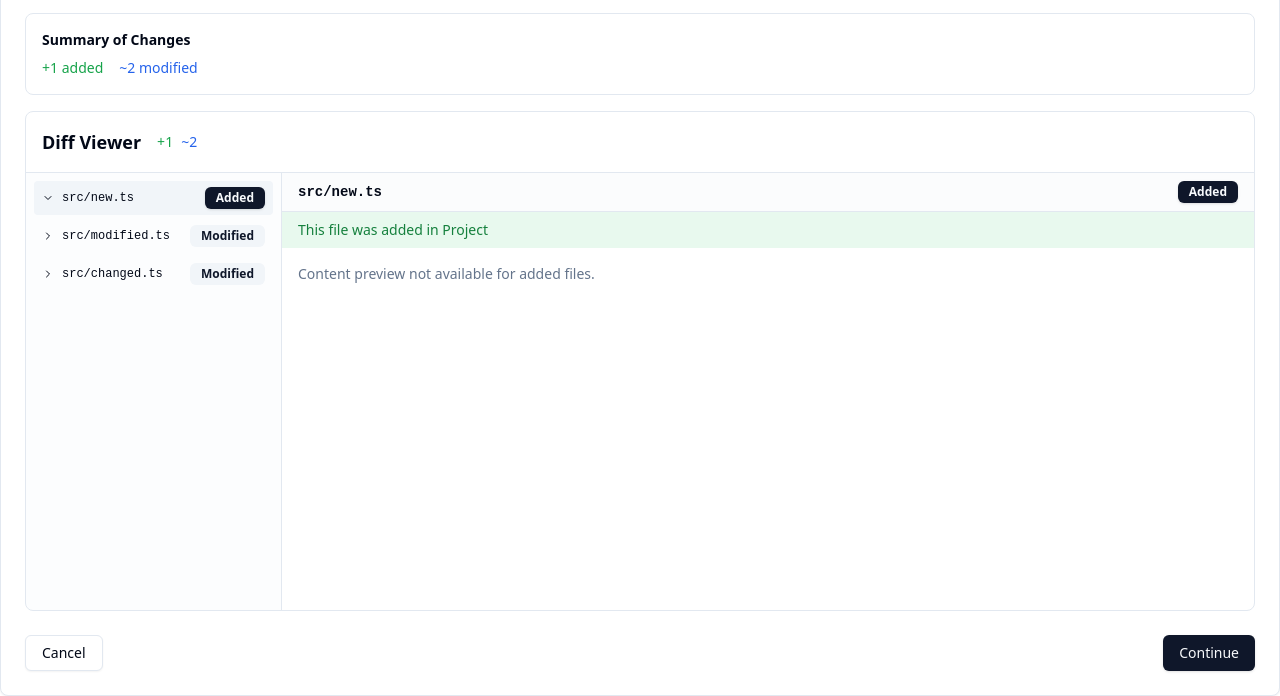
Test: MergeWorkflow › Preview Step › progresses to Resolve step when Continue clicked with conflicts
(page scrolled)
Click the button "Continue": (1209, 653) left=1163, top=635, right=1255, bottom=671
(page scrolled)
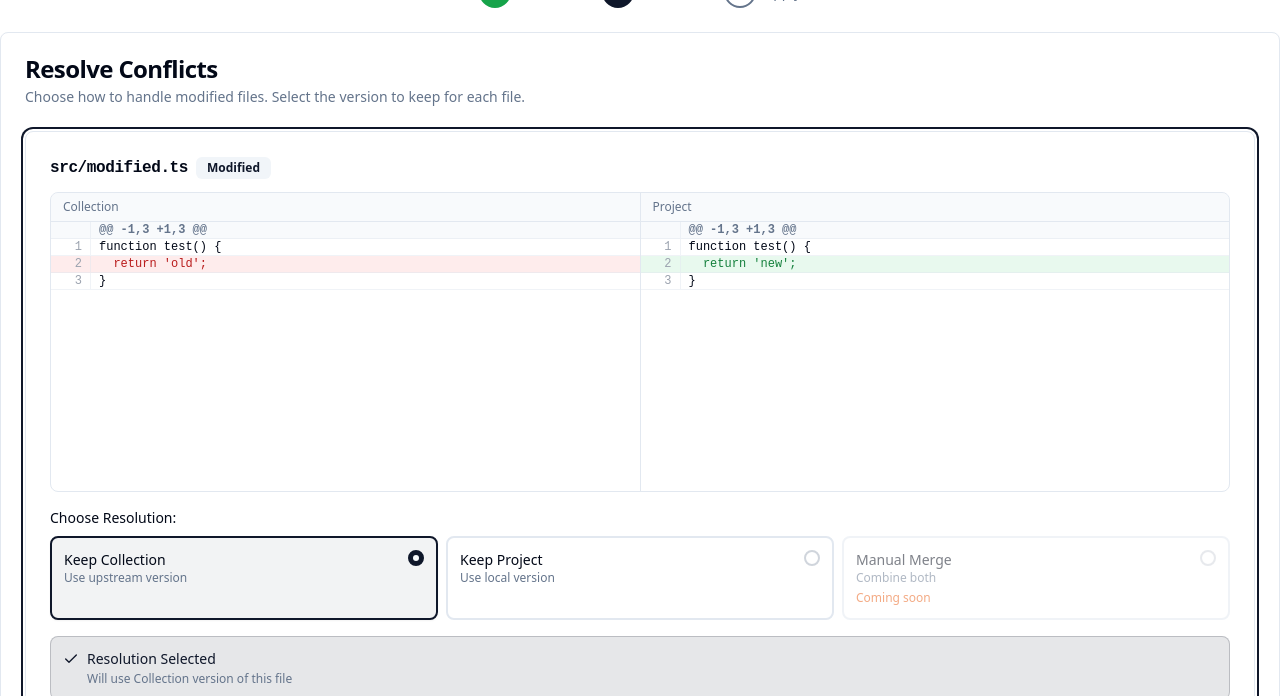
Check: the heading "Resolve Conflicts" is shown, box left=25, top=52, right=218, bottom=85
